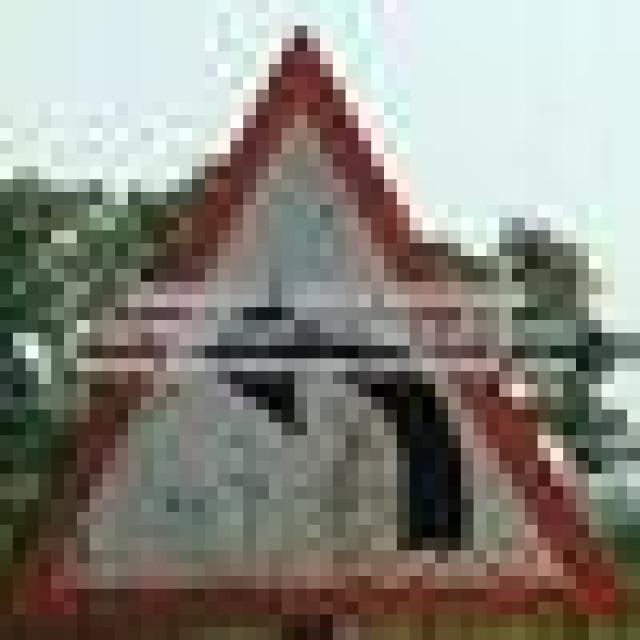LEFT_HAND_CURVE: (3, 26, 621, 618)
